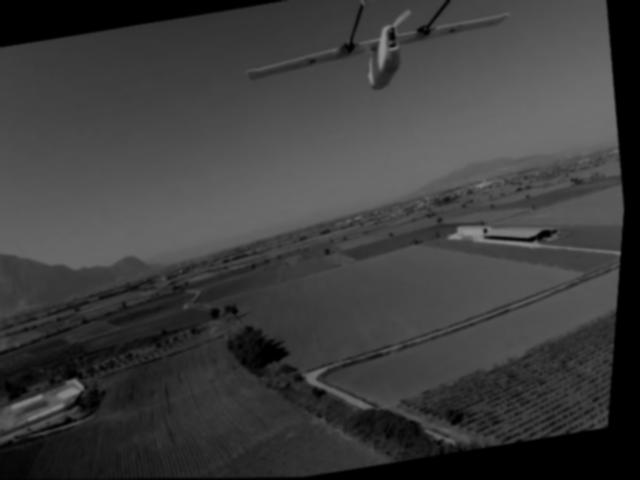hedef: (222, 0, 523, 126)
